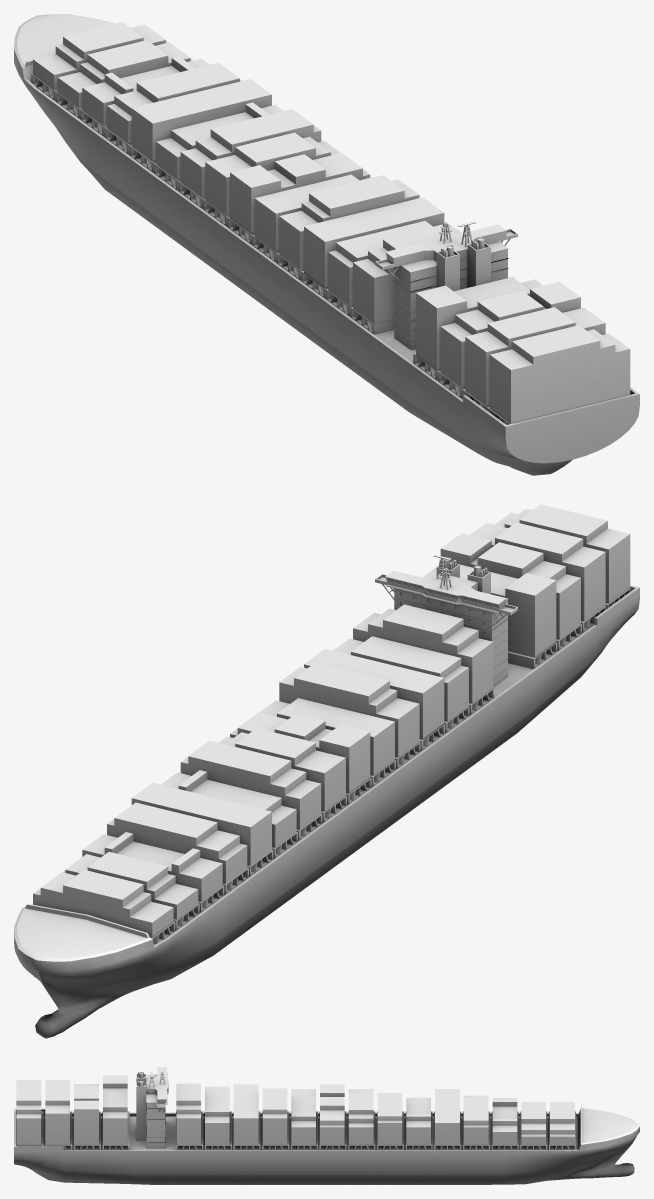
Rendered from cargo-l.glb.
3 renders of one model, top to bottom at view 1: azimuth 30°, elevation 25°; view 2: azimuth 150°, elevation 25°; view 3: azimuth 270°, elevation 25°, orthographic. The views are drawn at different scales.
Parts seen in each view (by area): view 1: CargoL_LOD0; view 2: CargoL_LOD0; view 3: CargoL_LOD0.
Boxes of the visible parts, x1,y1,x2,y2 form: CargoL_LOD0: [14, 14, 639, 475]; CargoL_LOD0: [14, 504, 639, 1038]; CargoL_LOD0: [14, 1067, 639, 1184].
Bounding box in the file's own units: 4.37 × 5.66 × 29.9.
1 material, 1 textured.
